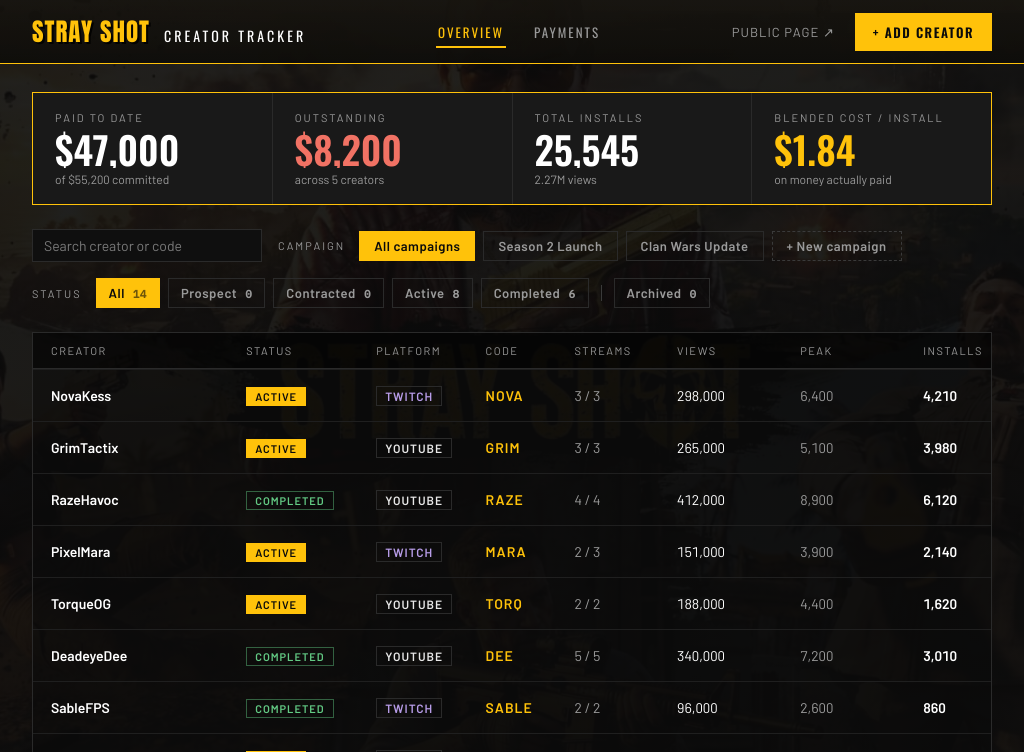
Test case: searching the ledger › says nothing matches rather than showing an empty table
Click the button "Payments" at (567, 32), box 532,16 -> 602,48
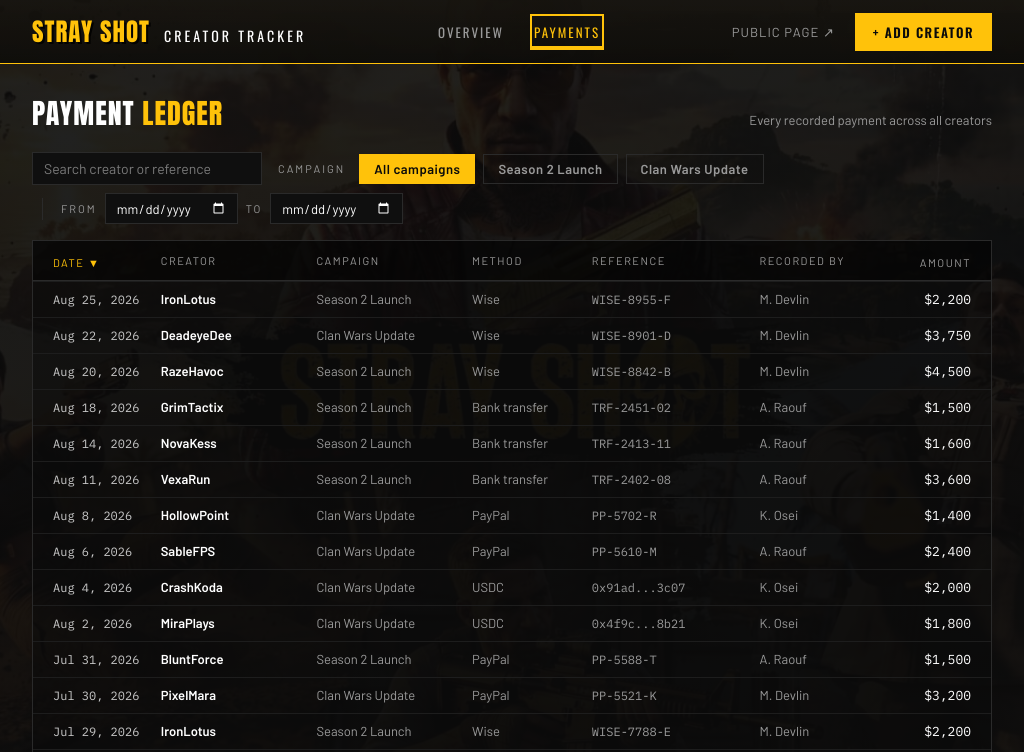
Type "NO-SUCH-REFERENCE" into the search field named "Search payments by creator or reference" at (147, 168), box 32,152 -> 262,185
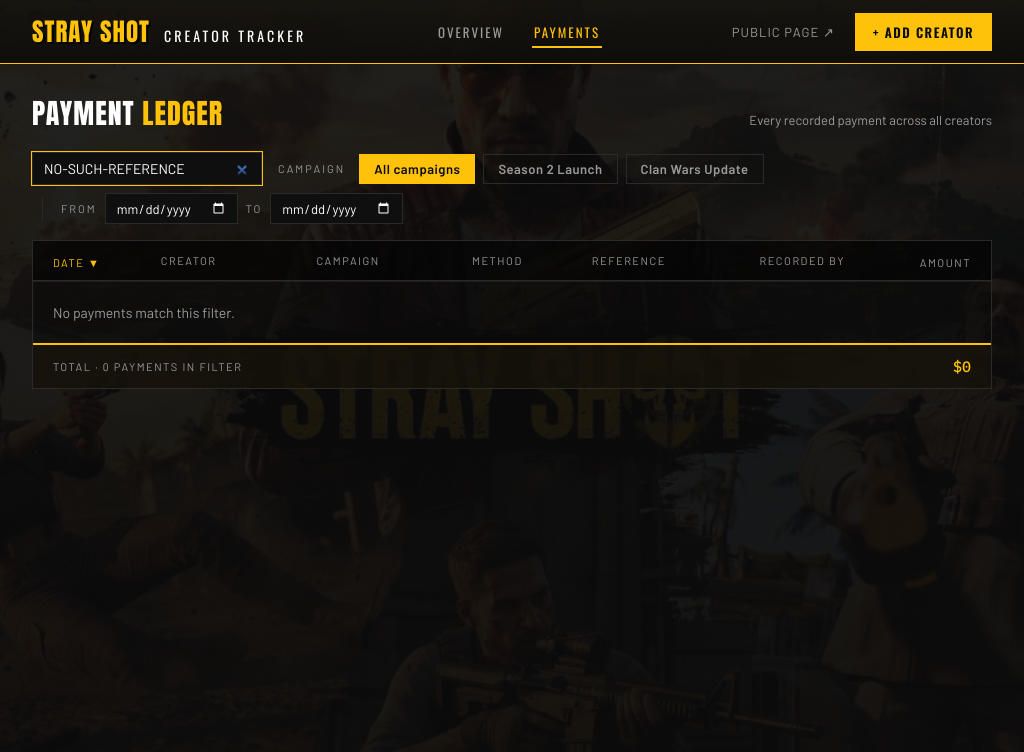
Check: the text "No payments match this filter." is shown, box 33,282 -> 991,344
Check: the text "$0" is shown, box 883,344 -> 991,388
